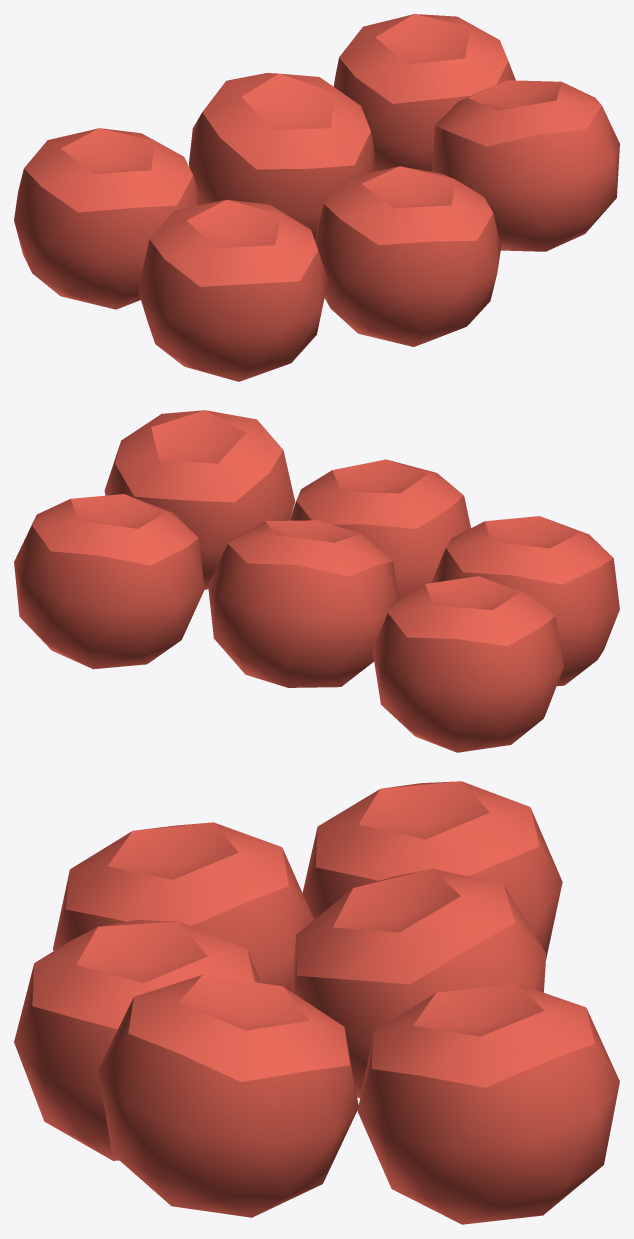
The model's file is longapple.fbx.
The picture shows the model from 3 angles, top to bottom: view 1: azimuth 30°, elevation 25°; view 2: azimuth 150°, elevation 25°; view 3: azimuth 270°, elevation 25°; orthographic projection. The views are drawn at different scales.
Parts seen in each view (by area): view 1: Icosphere; view 2: Icosphere; view 3: Icosphere.
Boxes of the visible parts, x1=… form: Icosphere: x1=14, y1=14, x2=619, y2=381; Icosphere: x1=14, y1=410, x2=619, y2=752; Icosphere: x1=14, y1=781, x2=619, y2=1224.
Size of the model in its own units: 35.94 by 12.71 by 27.52.
